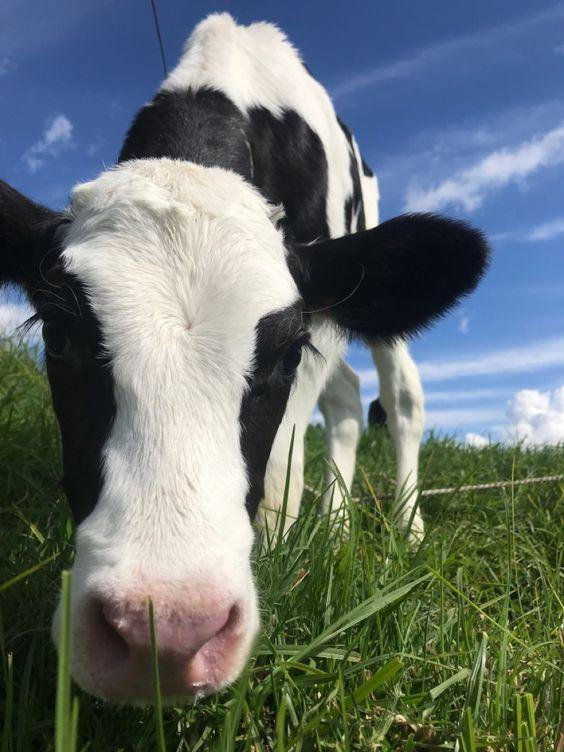cow: (16, 76, 544, 752)
